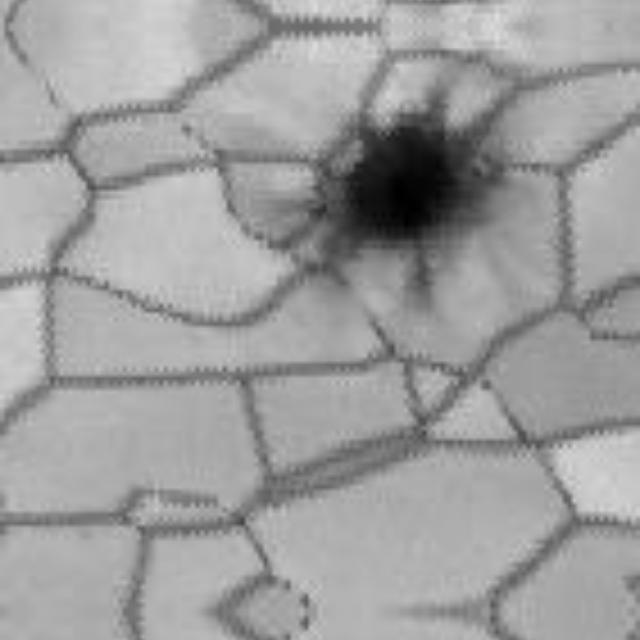good_void: (302, 87, 516, 313)
